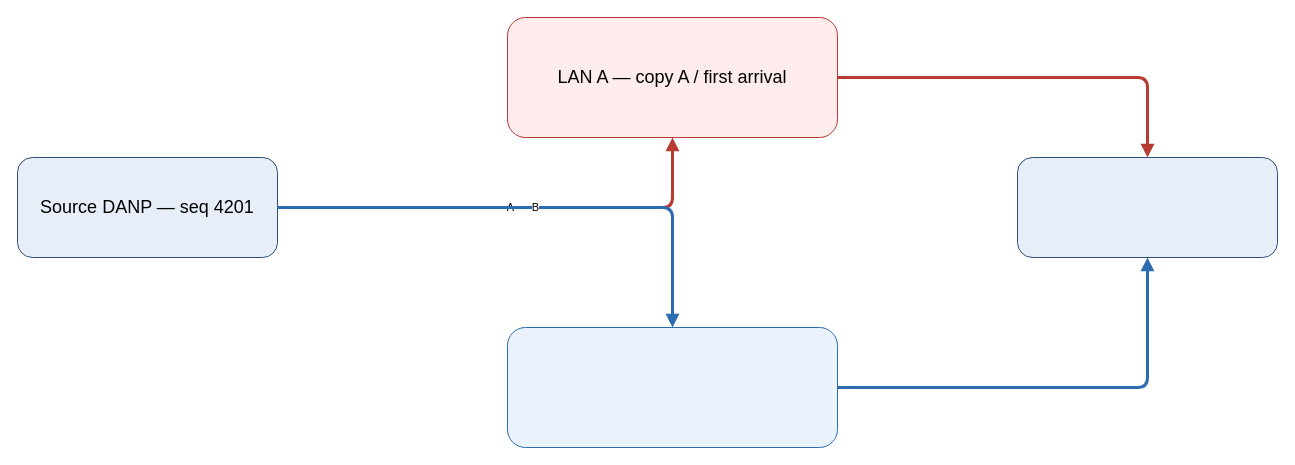
Image size: 1295x465. Some labels were removed from this diagram. Here are the shapes that lost their labels. From the top down, the centre of each, then its label:
At point 1147,207: "Destination / PRP peer".
At point 672,387: "LAN B — copy B / later duplicate".
